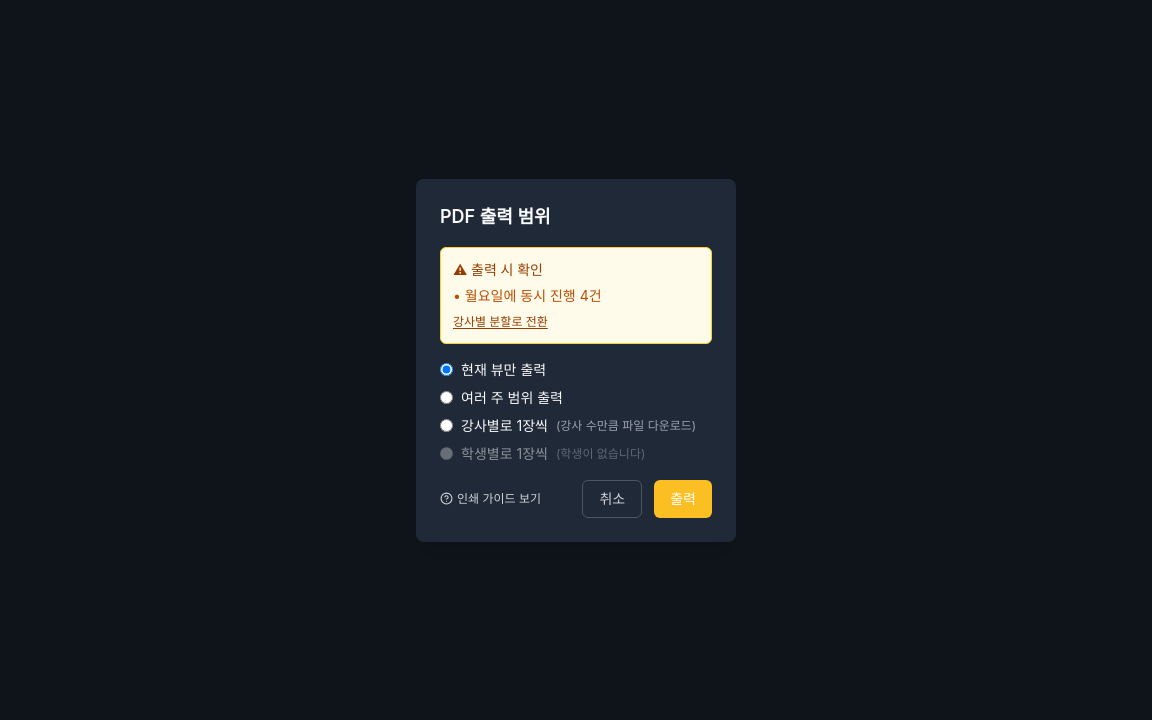
PdfExportRangeModal — preflight 경고 패널 › '강사별 분할로 전환' 버튼 클릭 시 scope가 per-teacher로 바뀐다
Click the button "강사별 분할로 전환".
click(500, 322)  # box [453, 314, 548, 330]
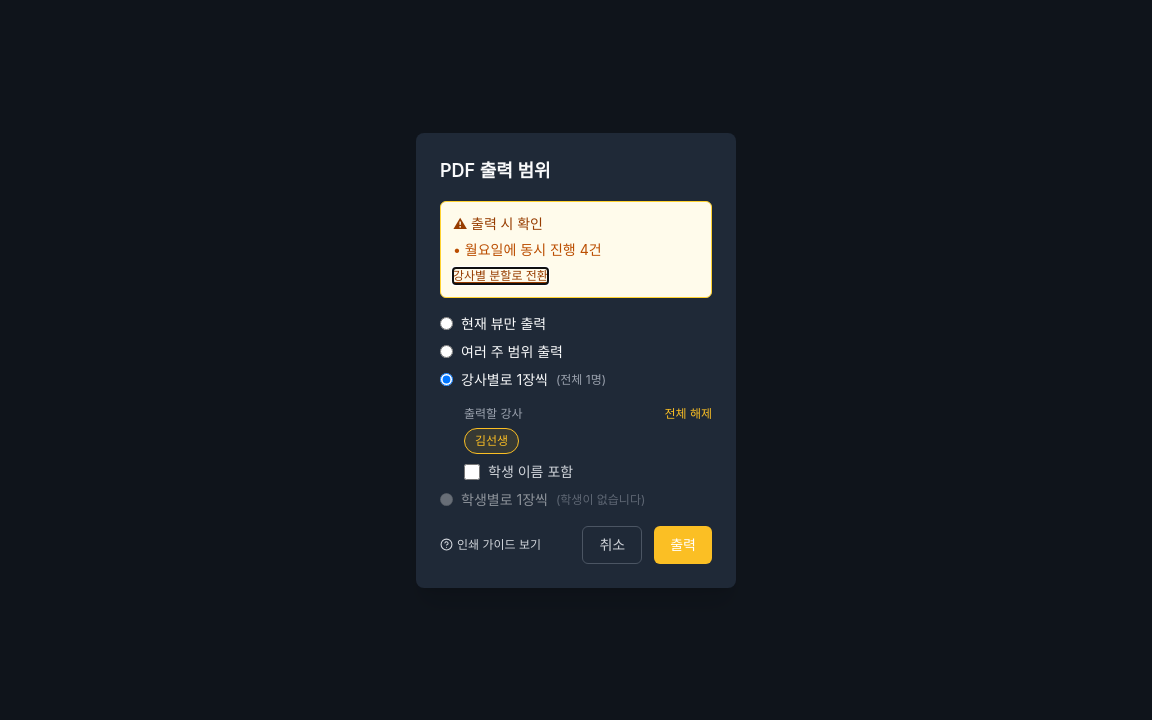
Now the radio button labelled "강사별로 1장씩" is checked, box [440, 373, 453, 386]
